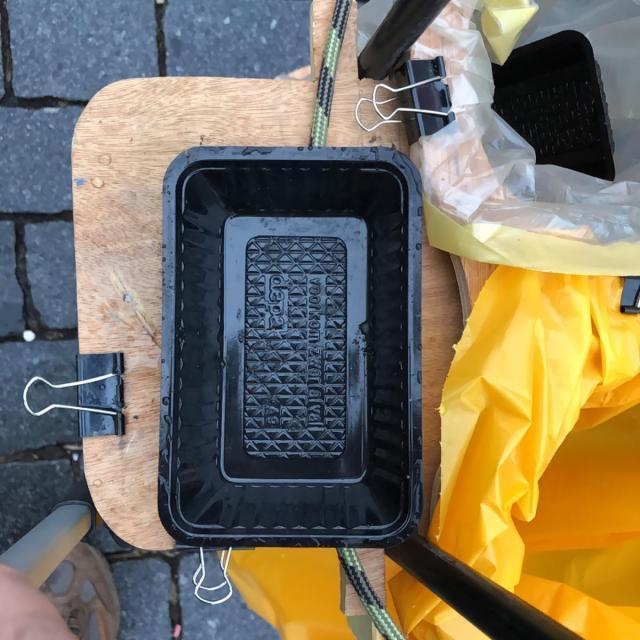Plastic: (154, 141, 426, 552)
